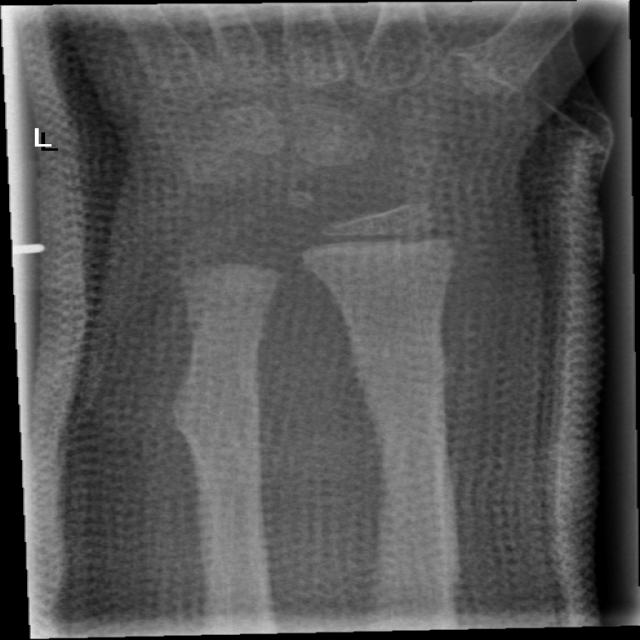radius fracture: (324, 294, 488, 455)
ulna fracture: (138, 344, 304, 535)
